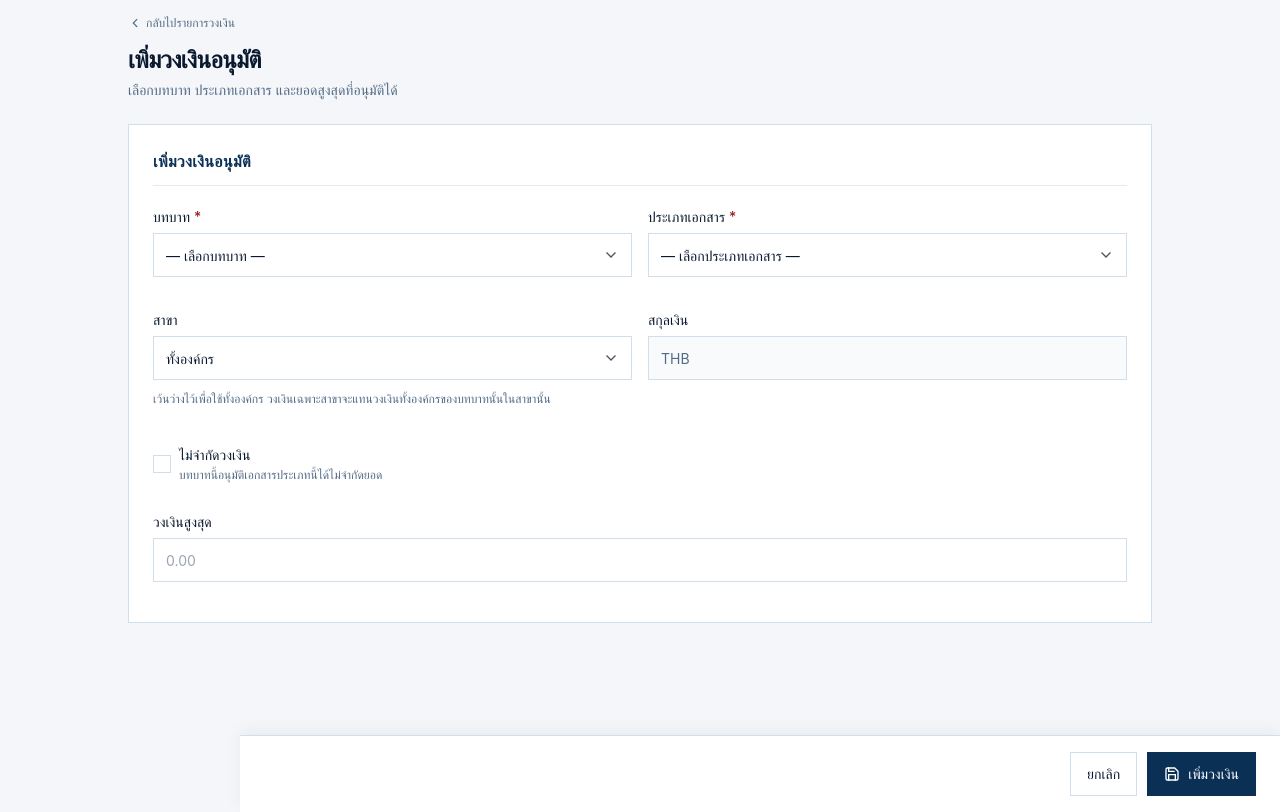
ApprovalLimitEditor › requires a role, a document type and an amount before creating
The image size is (1280, 812).
Step 1. Click the button "เพิ่มวงเงิน" → (1202, 774), box [1147,752,1256,796]
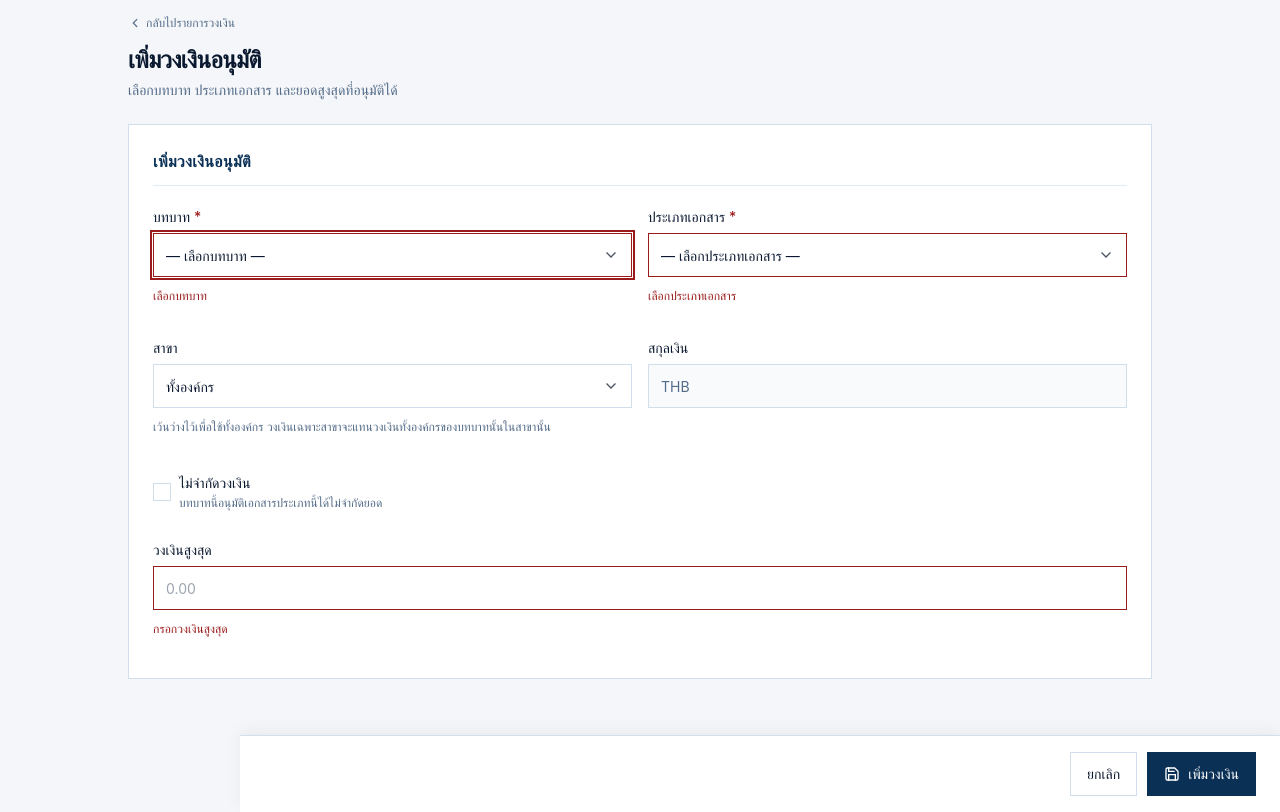
Expected: the text "เลือกบทบาท" is shown, [153,288,207,303]
Expected: the text "เลือกประเภทเอกสาร" is shown, [648,288,736,303]
Expected: the text "กรอกวงเงินสูงสุด" is shown, [153,621,228,636]
